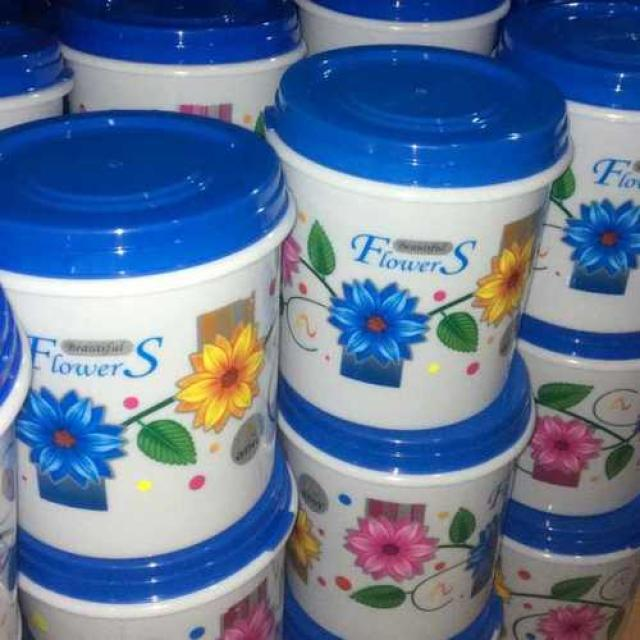plastic_box: (17, 105, 316, 549), (242, 47, 548, 450)
